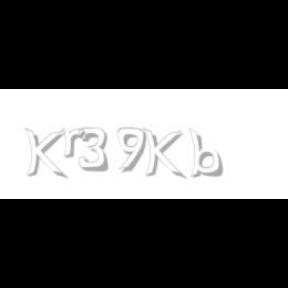3: (78, 128, 110, 172)
9: (118, 128, 146, 172)
K: (24, 128, 64, 180), (143, 128, 183, 180)
b: (188, 128, 226, 178)
r: (62, 128, 88, 158)
